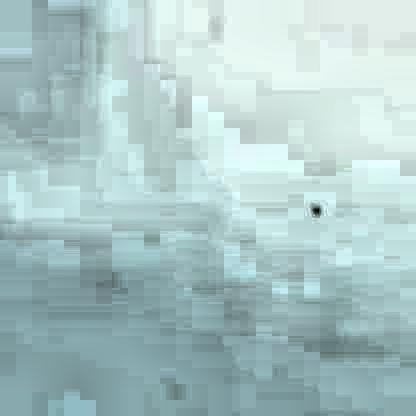golfball: (309, 202, 319, 212)
